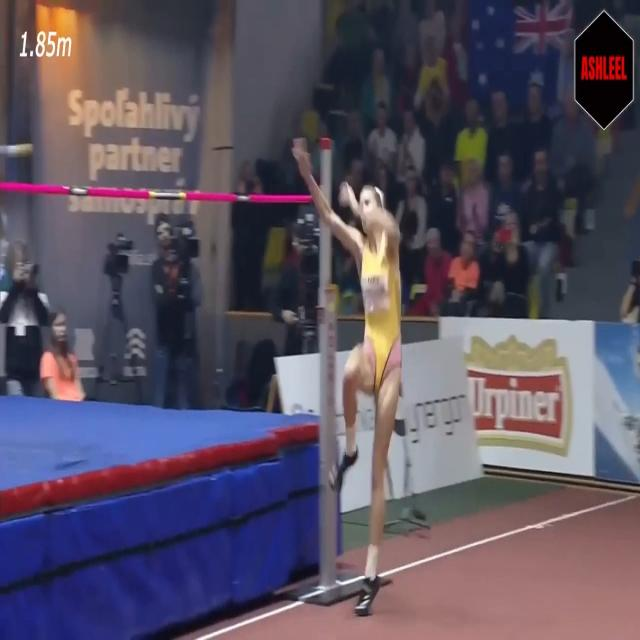jump: (292, 132, 400, 614)
